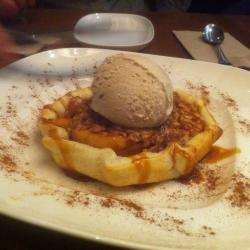apple_pie: (40, 85, 225, 193)
icecream: (91, 49, 179, 135)
